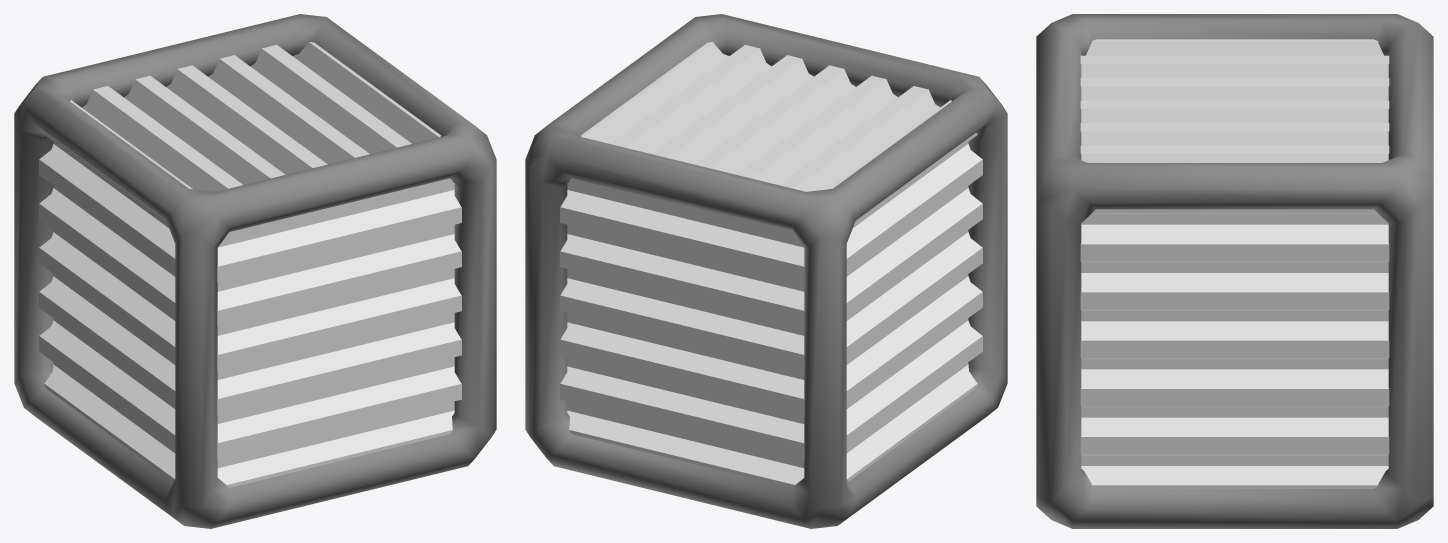
Rendered from block_metal_3.fbx.
The picture shows the model from 3 angles, left to right: view 1: azimuth 30°, elevation 25°; view 2: azimuth 150°, elevation 25°; view 3: azimuth 270°, elevation 25°; orthographic projection. The views are drawn at different scales.
Parts seen in each view (by area): view 1: block_metal_3; view 2: block_metal_3; view 3: block_metal_3.
Boxes of the visible parts, x1=… form: block_metal_3: x1=14, y1=14, x2=496, y2=528; block_metal_3: x1=525, y1=14, x2=1007, y2=528; block_metal_3: x1=1036, y1=14, x2=1433, y2=528.
Bounding box in the file's own units: 200 × 200 × 200.
